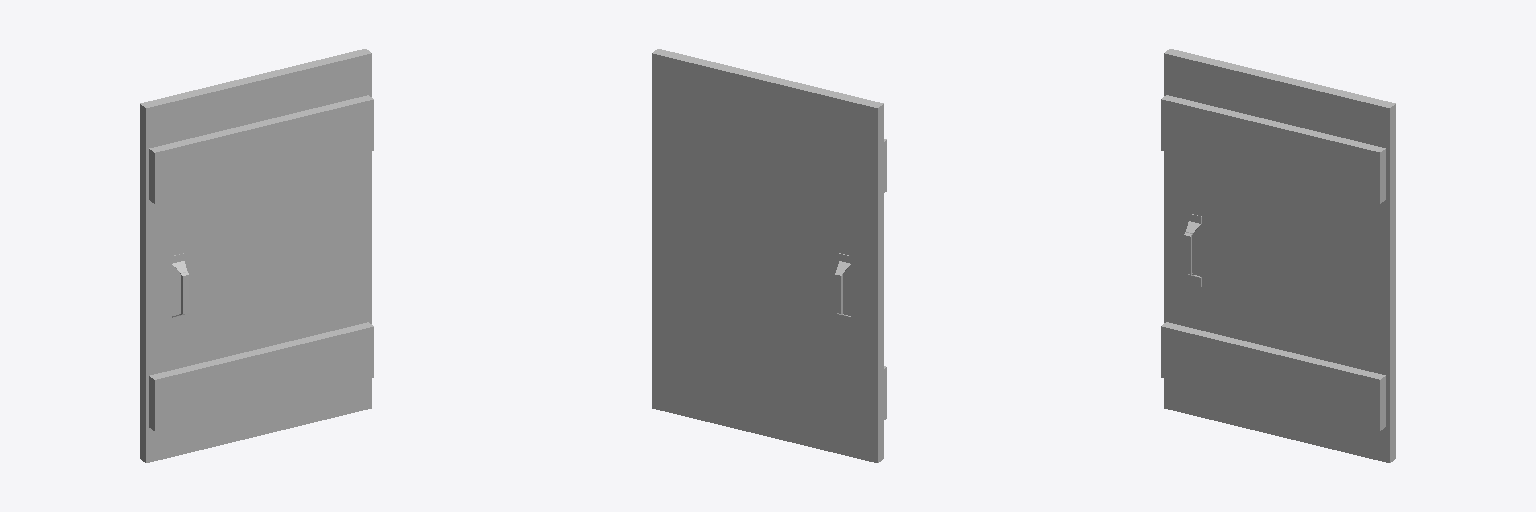
Rendered from door_closed.obj.
3 views of the same model, side by side, from view 1: azimuth 30°, elevation 25°; view 2: azimuth 150°, elevation 25°; view 3: azimuth 330°, elevation 25° (orthographic).
Visible parts, largest first — view 1: Cylinder; view 2: Cylinder; view 3: Cylinder.
Boxes of the visible parts, box(x1,y1,x2,y2) form: Cylinder: box(140, 49, 373, 462); Cylinder: box(652, 49, 886, 462); Cylinder: box(1161, 49, 1395, 462).
Size of the model in its own units: 2 by 3 by 0.3511.